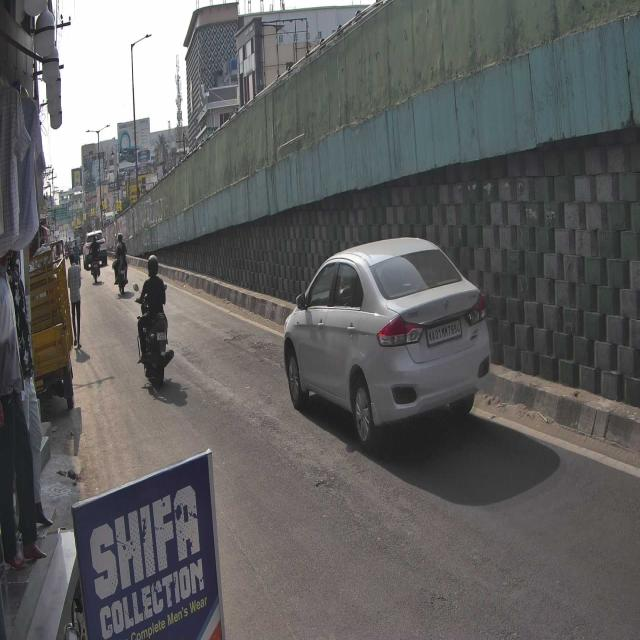single_rider: (134, 250, 176, 392)
